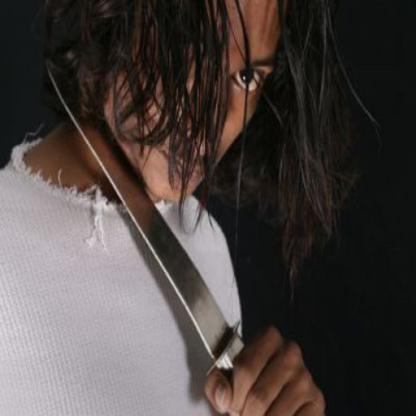knife: (46, 50, 307, 415)
